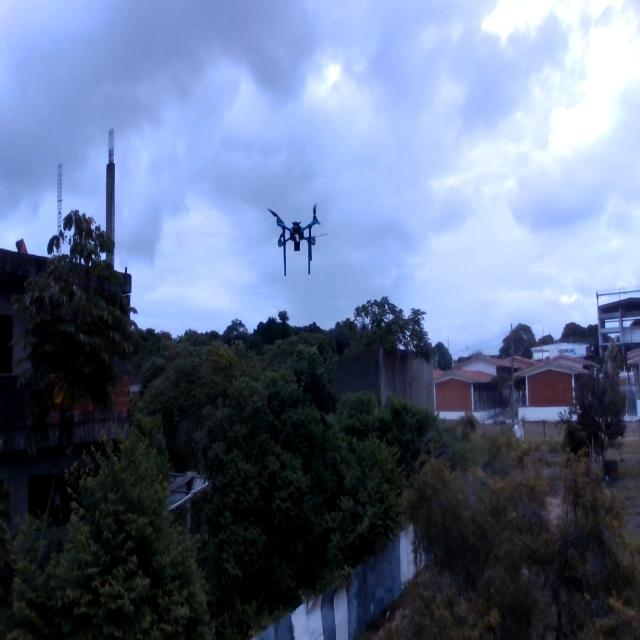-uav-: (262, 193, 341, 302)
